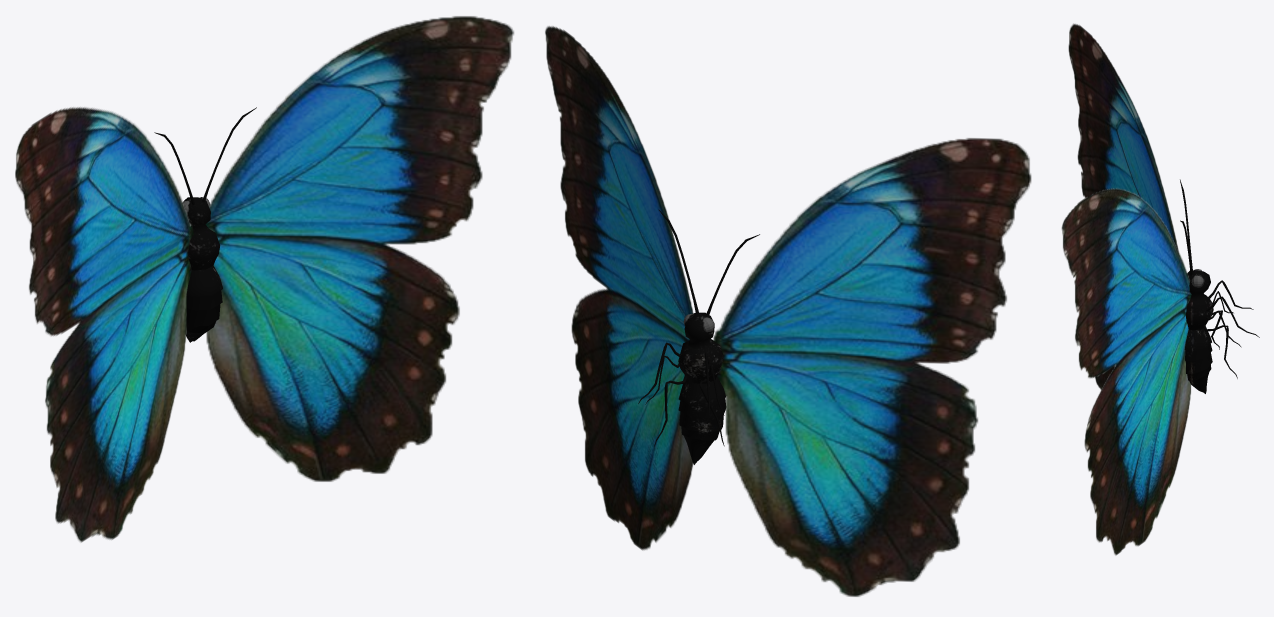
The model's file is butterfly.glb.
The picture shows the model from 3 angles, left to right: view 1: azimuth 30°, elevation 25°; view 2: azimuth 150°, elevation 25°; view 3: azimuth 270°, elevation 25°; orthographic projection. The views are drawn at different scales.
Parts seen in each view (by area): view 1: wingR, wingL, body; view 2: wingL, wingR, body; view 3: wingR, wingL, body.
Boxes of the visible parts, x1,y1,x2,y2 form: wingR: [205, 16, 513, 481]; wingL: [15, 107, 193, 542]; body: [154, 107, 256, 342]; wingL: [713, 138, 1031, 596]; wingR: [545, 26, 693, 550]; body: [638, 209, 759, 464]; wingR: [1061, 188, 1191, 555]; wingL: [1068, 23, 1178, 390]; body: [1180, 179, 1259, 393].
Bounding box in the file's own units: 1 × 0.9034 × 0.4179.
3 materials, 3 textured.
